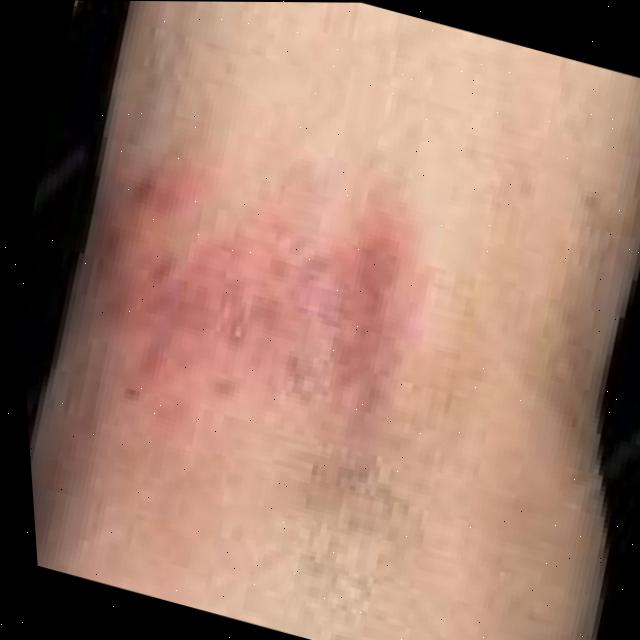Shingles: (56, 140, 445, 426)
